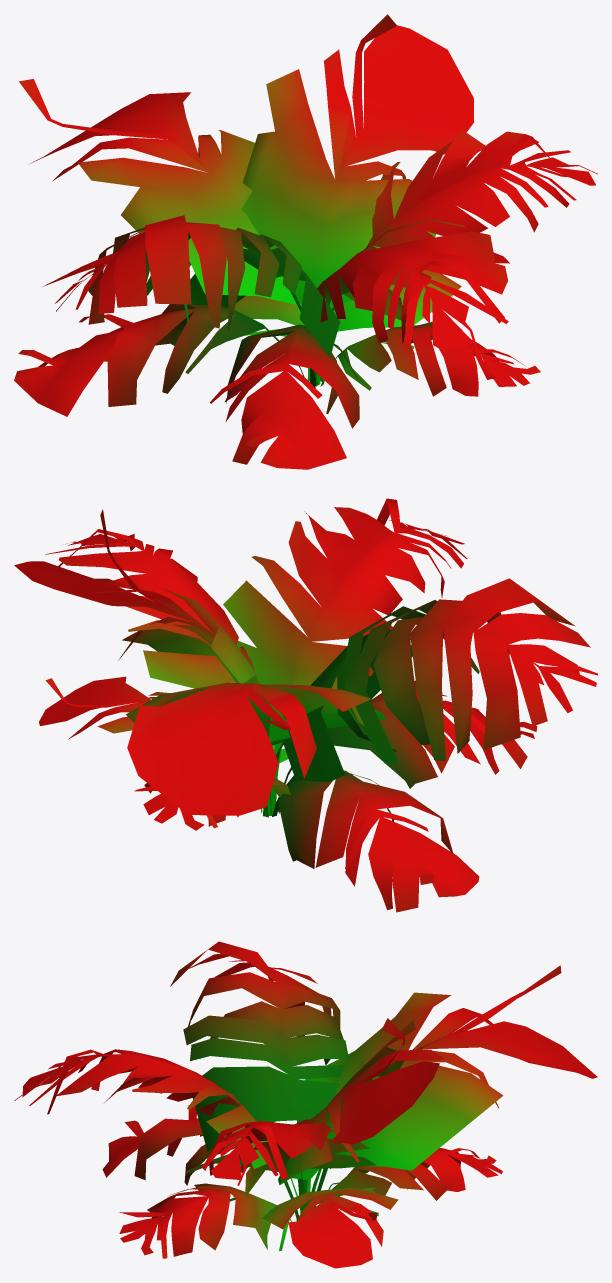
Rendered from Var1_LOD2.fbx.
3 renders of one model, top to bottom at view 1: azimuth 30°, elevation 25°; view 2: azimuth 150°, elevation 25°; view 3: azimuth 270°, elevation 25°, orthographic. The views are drawn at different scales.
Parts seen in each view (by area): view 1: _4906_Var1_LOD2; view 2: _4906_Var1_LOD2; view 3: _4906_Var1_LOD2.
Boxes of the visible parts, box(x1,y1,x2,y2) form: _4906_Var1_LOD2: box(14, 14, 597, 469); _4906_Var1_LOD2: box(14, 498, 597, 912); _4906_Var1_LOD2: box(14, 941, 597, 1268).
Bounding box in the file's own units: 327 × 180 × 349.
